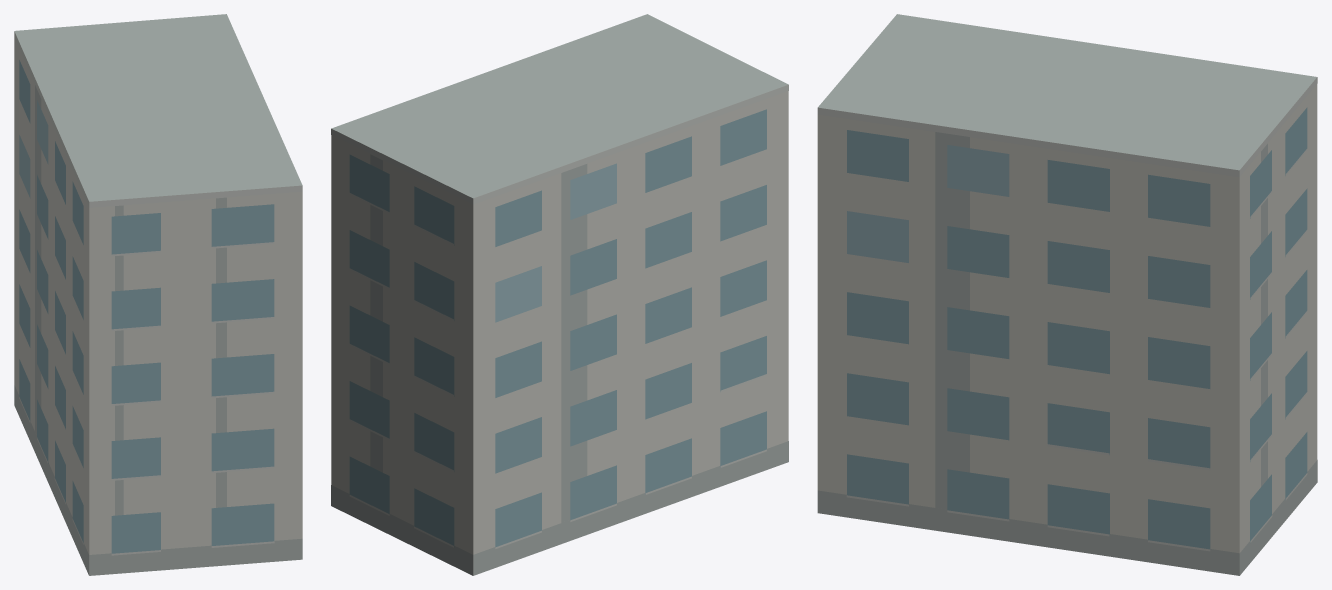
File: survey-upis-32888441.glb
The picture shows the model from 3 angles, left to right: view 1: azimuth 30°, elevation 25°; view 2: azimuth 150°, elevation 25°; view 3: azimuth 270°, elevation 25°; orthographic projection. The views are drawn at different scales.
Parts seen in each view (by area): view 1: survey-upis-32888441.tmp; view 2: survey-upis-32888441.tmp; view 3: survey-upis-32888441.tmp.
Part boxes in pixels (<box>): survey-upis-32888441.tmp: <box>14,14,302,575</box>; survey-upis-32888441.tmp: <box>331,14,788,575</box>; survey-upis-32888441.tmp: <box>817,14,1317,575</box>.
Size of the model in its own units: 11.99 by 14.49 by 16.19.
